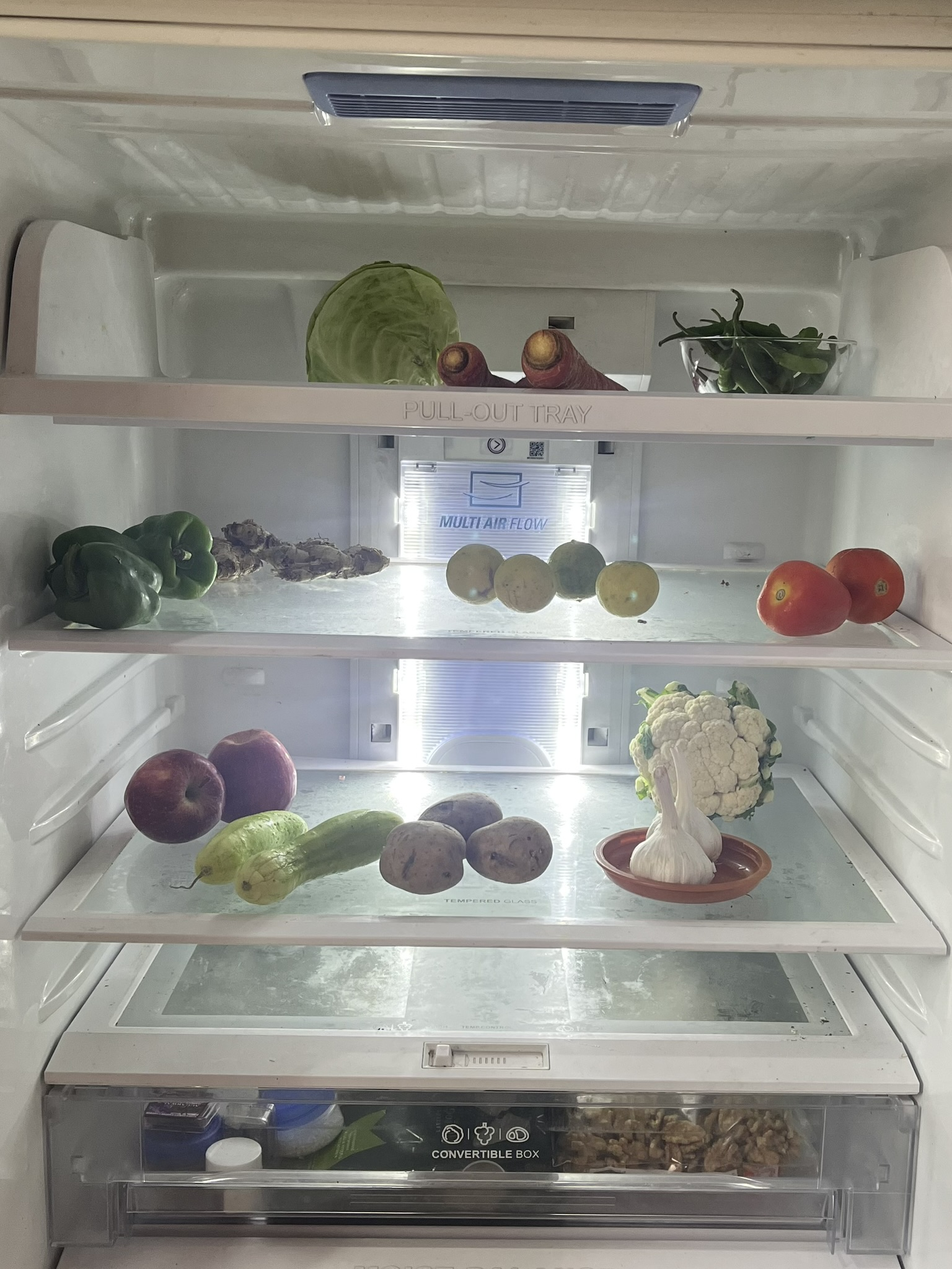apple: (128, 721, 300, 837)
cabbage: (302, 261, 466, 381)
capsicum: (38, 504, 213, 625)
carrots: (443, 326, 649, 391)
cauliflower: (629, 686, 777, 824)
chillies: (674, 307, 852, 398)
cucumber: (188, 804, 409, 906)
garlic: (634, 746, 725, 880)
ginger: (208, 517, 393, 592)
lemon: (443, 534, 659, 613)
potato: (386, 797, 558, 896)
tomato: (761, 540, 909, 633)
